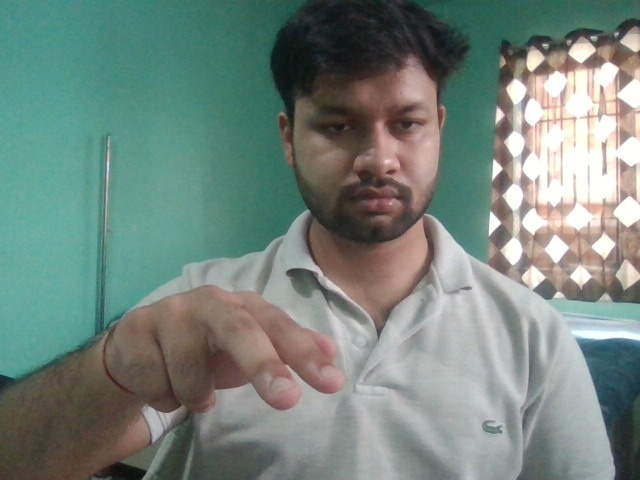No: (107, 282, 349, 422)
